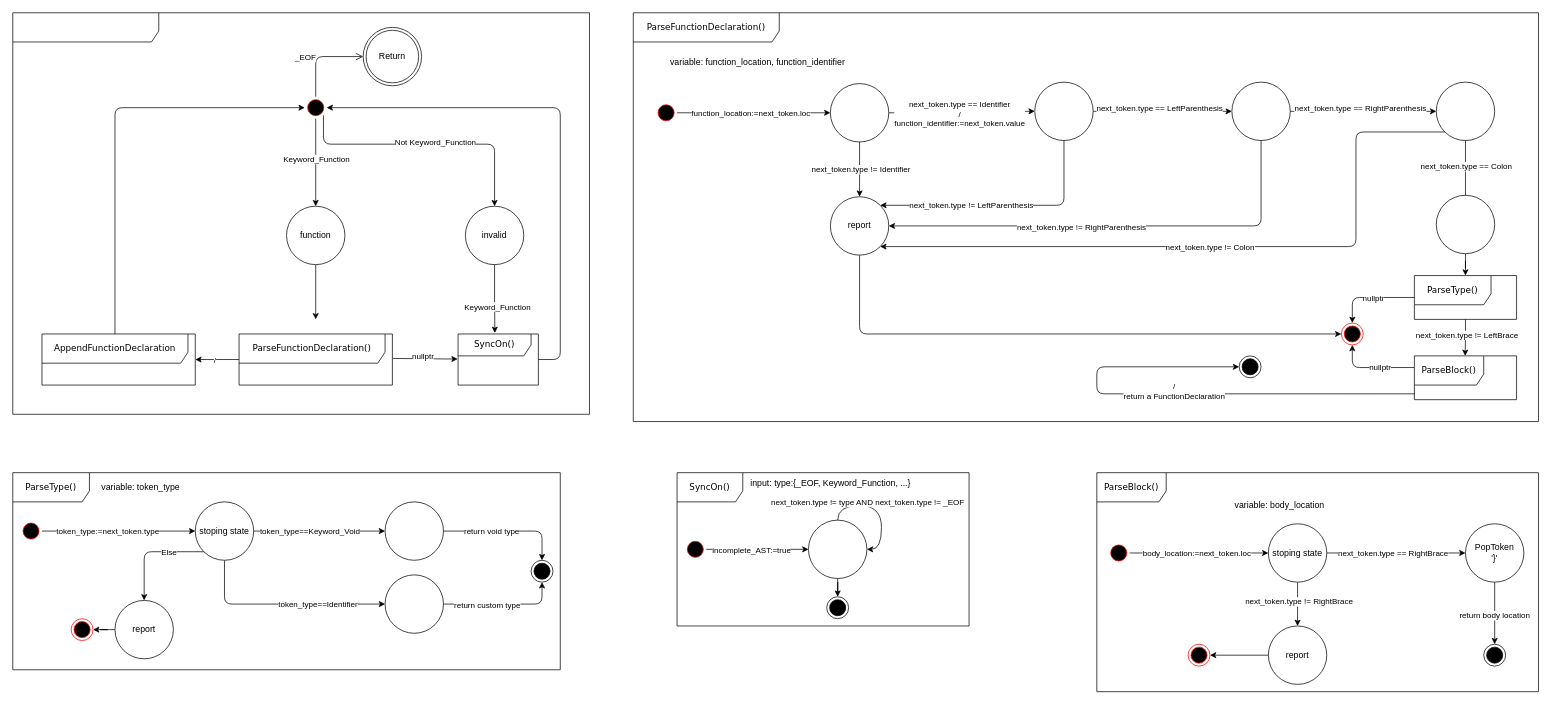
Some shapes in this 1551 by 704 pixel diagram are drawn without their labels. Each missing label, with the centre of its shape:
Custom type: (413,603)
keep_skipping: (837,549)
ParseSourceFile(): (300,213)
PopToken "func": (859,112)
PopToken '(': (1260,111)
PopToken ')': (1465,111)
PopToken ':': (1465,224)
PopToken ::Identifier: (1063,111)
void type: (413,530)
